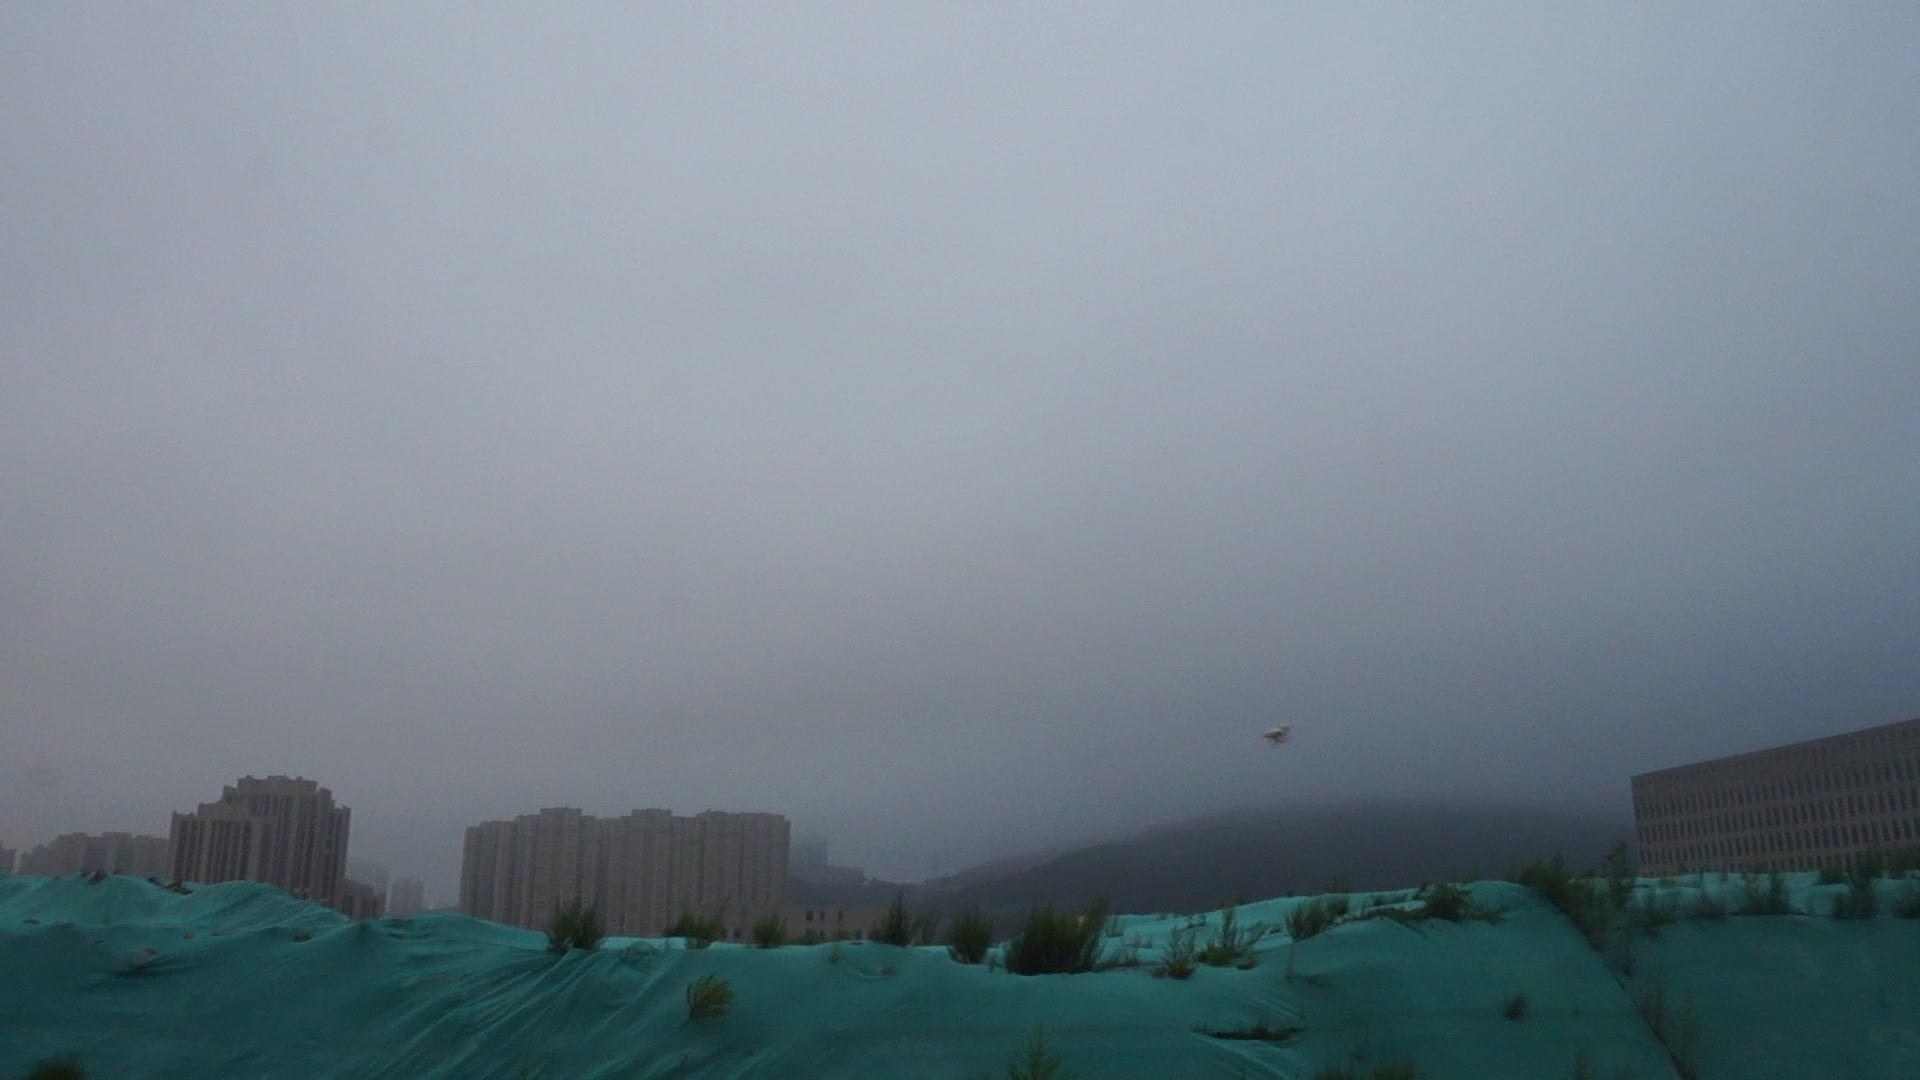UAV: (1261, 727, 1291, 745)
